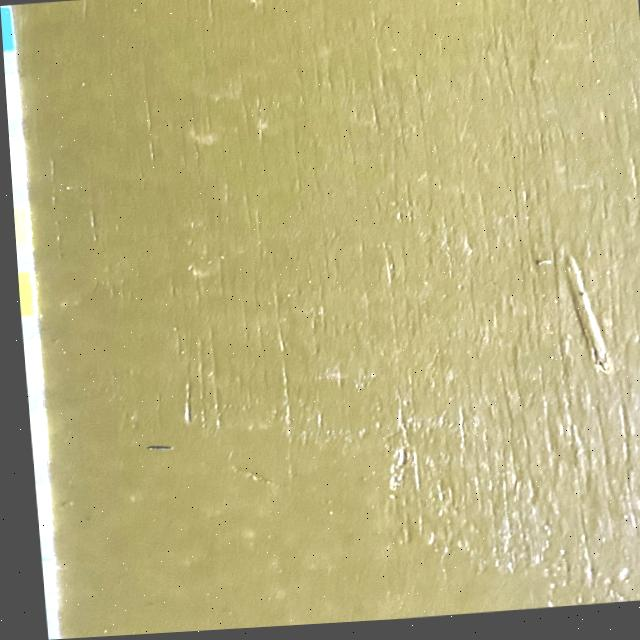Bilirubin: (4, 71, 17, 114)
Blood: (14, 271, 33, 317)
Glucose: (0, 8, 13, 48)
Ketone: (7, 136, 23, 179)
Protein: (23, 412, 41, 460)
SpGravity: (11, 203, 27, 248)
Urobilinogen: (28, 485, 43, 534)
pH: (18, 342, 36, 388)
